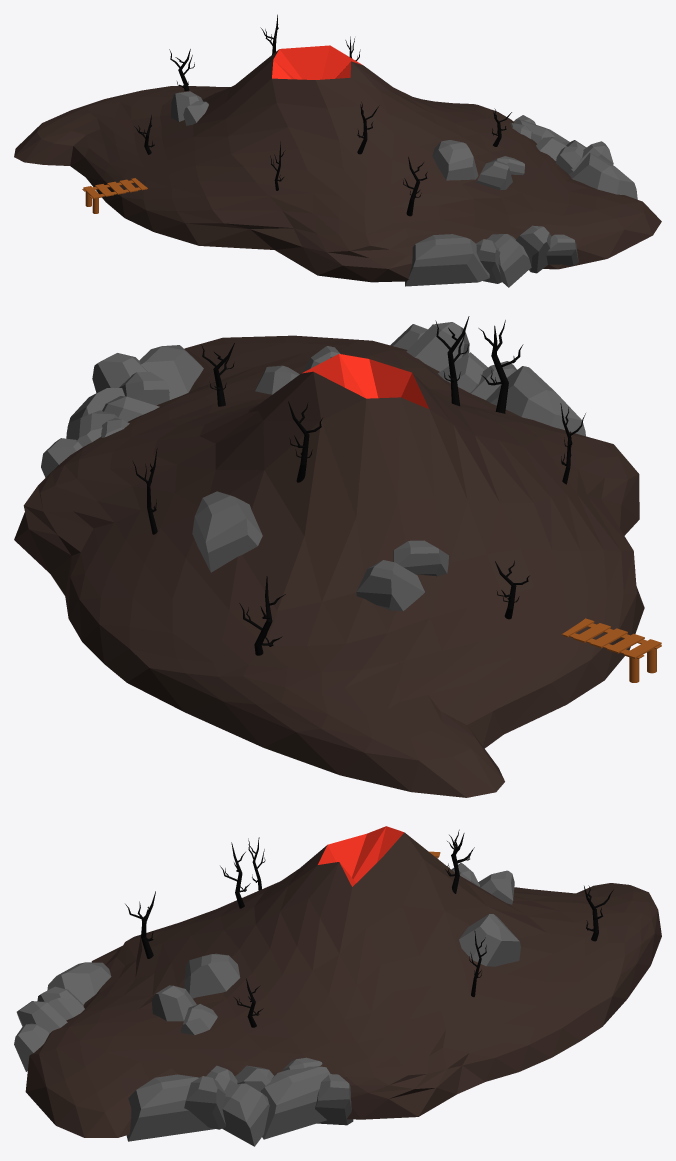
The model's file is island_lava.fbx.
3 views of the same model, one above another, from view 1: azimuth 30°, elevation 25°; view 2: azimuth 150°, elevation 25°; view 3: azimuth 270°, elevation 25° (orthographic). The views are drawn at different scales.
Visible parts, largest first — view 1: Island, Cube.008, Cube.003, Cube.009, Cube.004, Cube.002, Port, Cube.001, Cube.007, Cube.005, Cube.017, Cube.015 (+4 smaller); view 2: Island, Cube.018, Cube.008, Cube.017, Port, Cube.003, Cube.002, Cube.016, Cube, Cube.015, Cube.013, Cube.004 (+8 smaller); view 3: Island, Cube.003, Cube.013, Cube.014, Cube.018, Cube.009, Cube, Cube.008, Cube.010, Cube.007, Cube.002, Cube.001 (+4 smaller).
Boxes of the visible parts, <box> form: Island: <box>14,45,661,282</box>; Cube.008: <box>405,234,489,286</box>; Cube.003: <box>568,153,637,199</box>; Cube.009: <box>432,140,478,180</box>; Cube.004: <box>487,234,531,287</box>; Cube.002: <box>516,225,551,273</box>; Port: <box>82,178,147,213</box>; Cube.001: <box>546,234,578,265</box>; Cube.007: <box>476,160,512,190</box>; Cube.005: <box>476,239,501,283</box>; Cube.017: <box>171,91,202,121</box>; Cube.015: <box>556,146,583,173</box>; Island: <box>14,335,644,797</box>; Cube.018: <box>192,491,262,572</box>; Cube.008: <box>486,366,585,436</box>; Cube.017: <box>356,560,424,611</box>; Port: <box>562,618,661,682</box>; Cube.003: <box>139,345,203,399</box>; Cube.002: <box>406,322,469,371</box>; Cube.016: <box>393,540,448,576</box>; Cube: <box>92,353,169,392</box>; Cube.015: <box>119,372,169,405</box>; Cube.013: <box>66,410,119,446</box>; Cube.004: <box>438,352,487,392</box>; Island: <box>25,826,661,1137</box>; Cube.003: <box>126,1074,214,1141</box>; Cube.013: <box>260,1066,330,1139</box>; Cube.014: <box>222,1083,269,1146</box>; Cube.018: <box>459,914,520,966</box>; Cube.009: <box>184,953,240,998</box>; Cube: <box>184,1076,225,1129</box>; Cube.008: <box>47,962,111,1004</box>; Cube.010: <box>315,1074,353,1125</box>; Cube.007: <box>151,985,196,1021</box>; Cube.002: <box>16,1001,67,1033</box>; Cube.001: <box>14,1023,49,1071</box>.
Size of the model in its own units: 11220 by 3801 by 12125.
